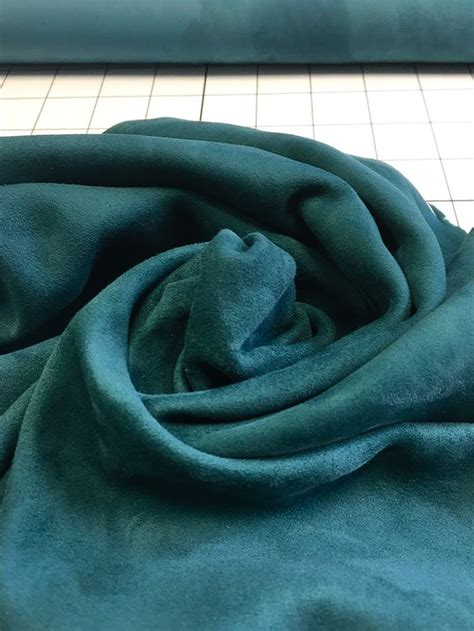gamuza: (1, 1, 474, 628)
